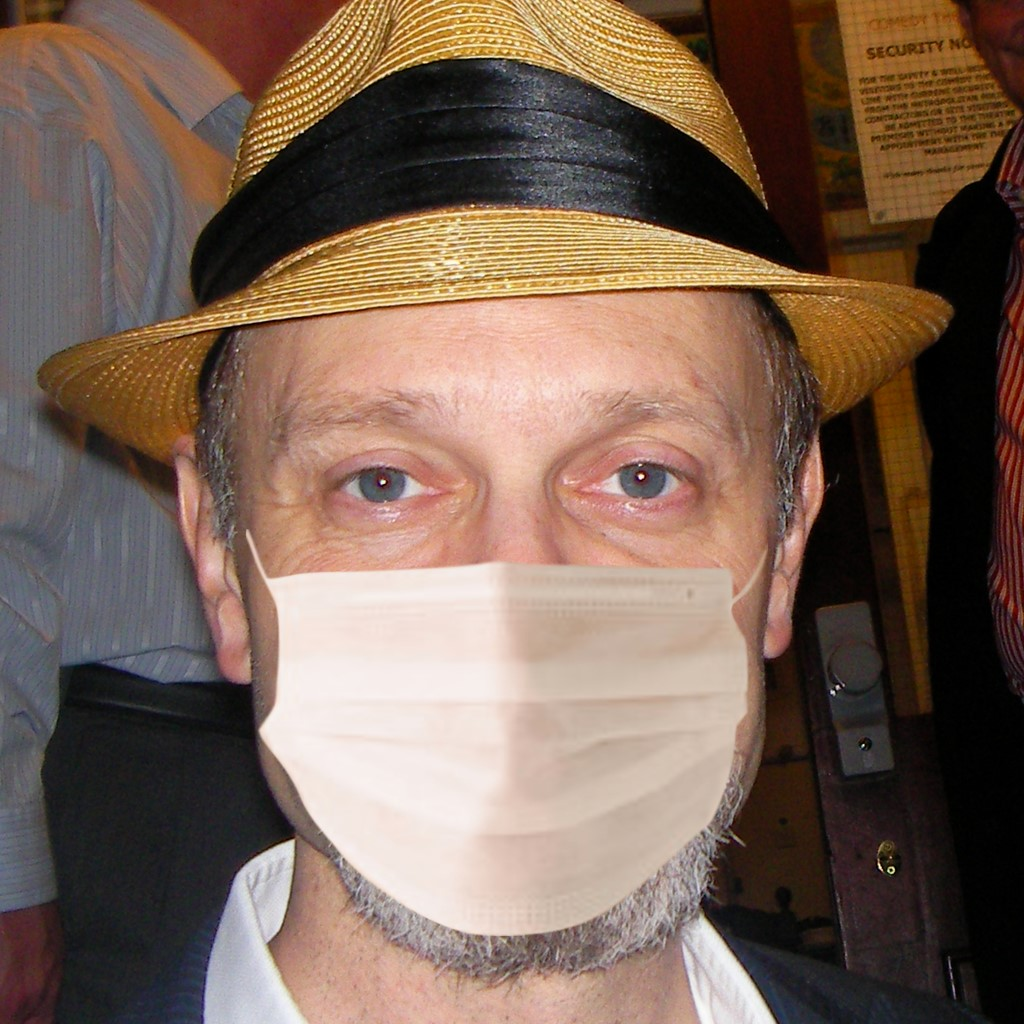con_mascara: (198, 308, 794, 948)
